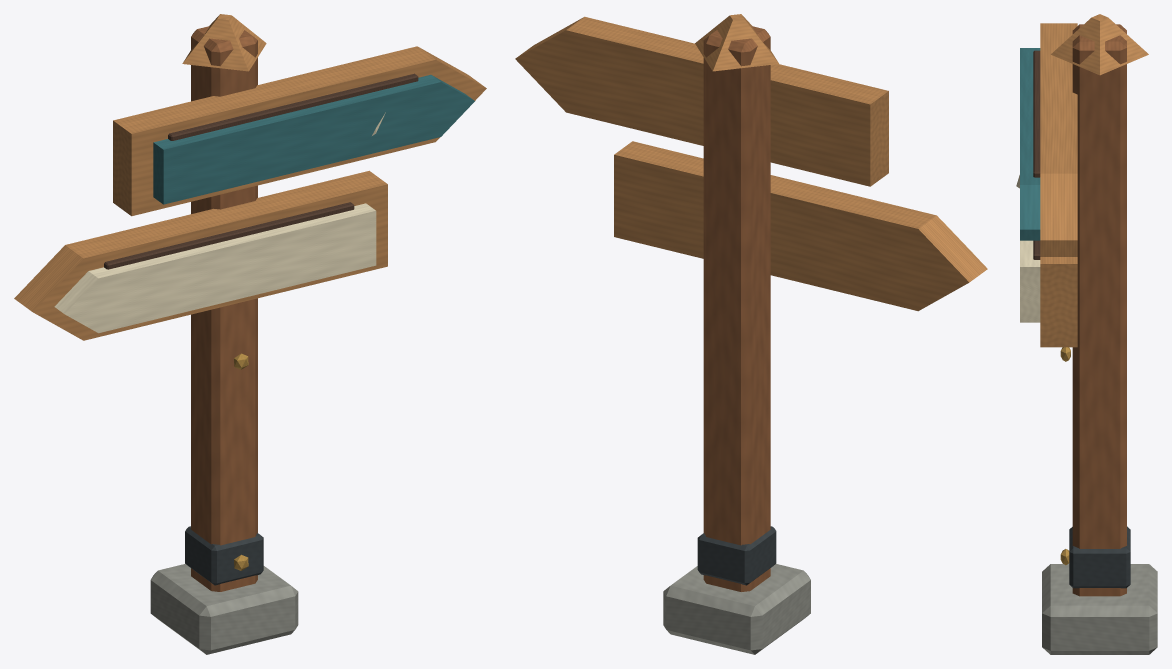
File: signpost_crossroads.glb
3 renders of one model, left to right at view 1: azimuth 30°, elevation 25°; view 2: azimuth 150°, elevation 25°; view 3: azimuth 270°, elevation 25°, orthographic.
Visible parts, largest first — view 1: signpost_crossroads; view 2: signpost_crossroads; view 3: signpost_crossroads.
Part boxes in pixels (x1,y1,x2,y2): signpost_crossroads: [14, 14, 486, 654]; signpost_crossroads: [515, 14, 987, 654]; signpost_crossroads: [1016, 14, 1157, 654].
Size of the model in its own units: 1.56 by 2 by 0.416.
Materials: 1 (1 with a texture image).
